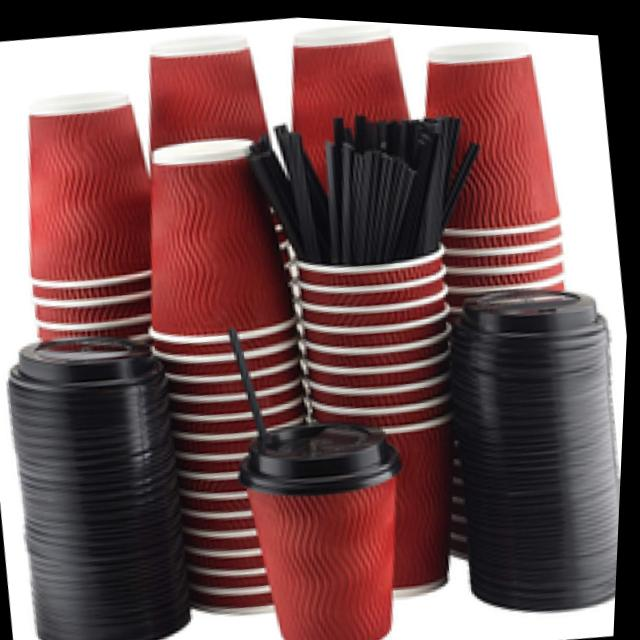paper_cups: (116, 125, 351, 629), (407, 19, 586, 301), (237, 405, 430, 640), (1, 88, 173, 345)
